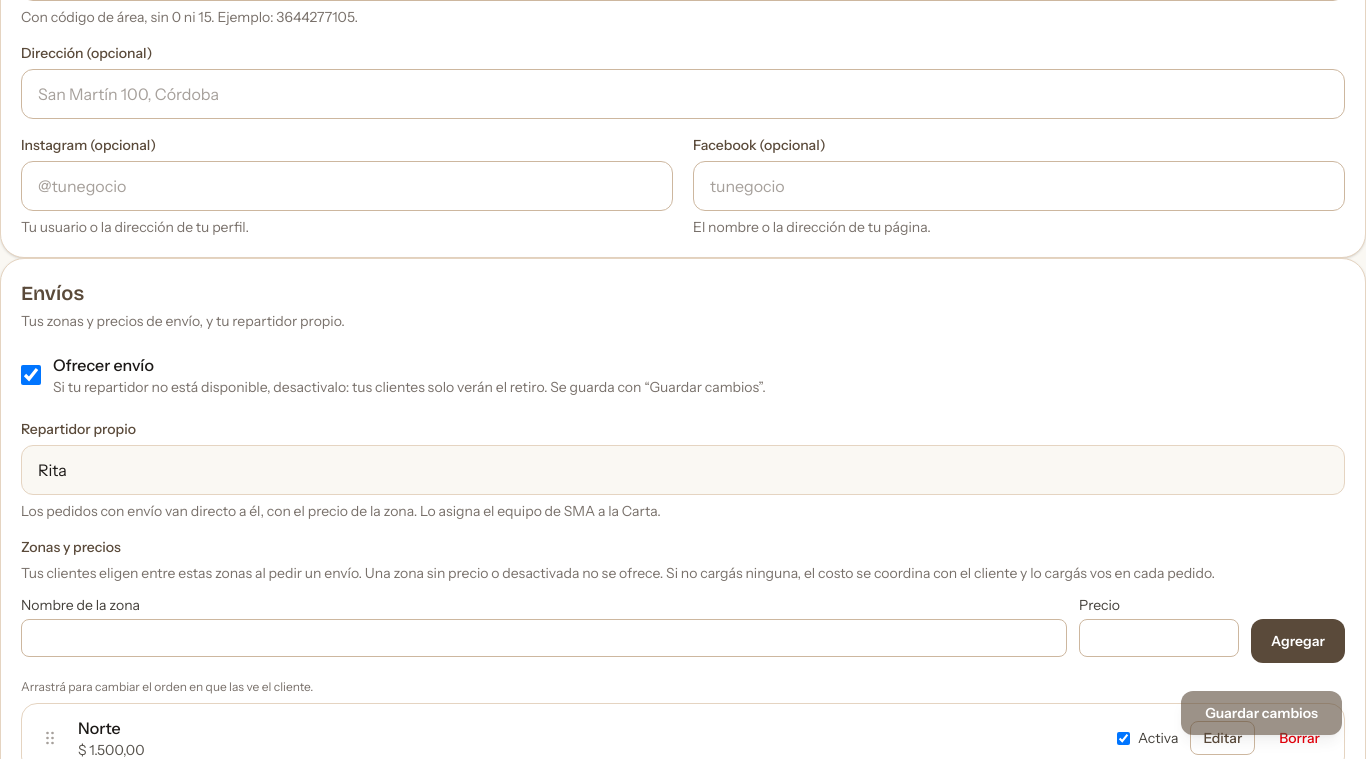
Test: el interruptor 'Ofrecer envío' es el mismo 'Delivery' de Entrega y pago — ENVIO-260 › desactivar el envío destilda 'Delivery' y deja un cambio sin guardar
(page scrolled)
Click the checkbox labelled "Ofrecer envío". click: [31, 375]
box: x1=21 y1=365 x2=41 y2=385
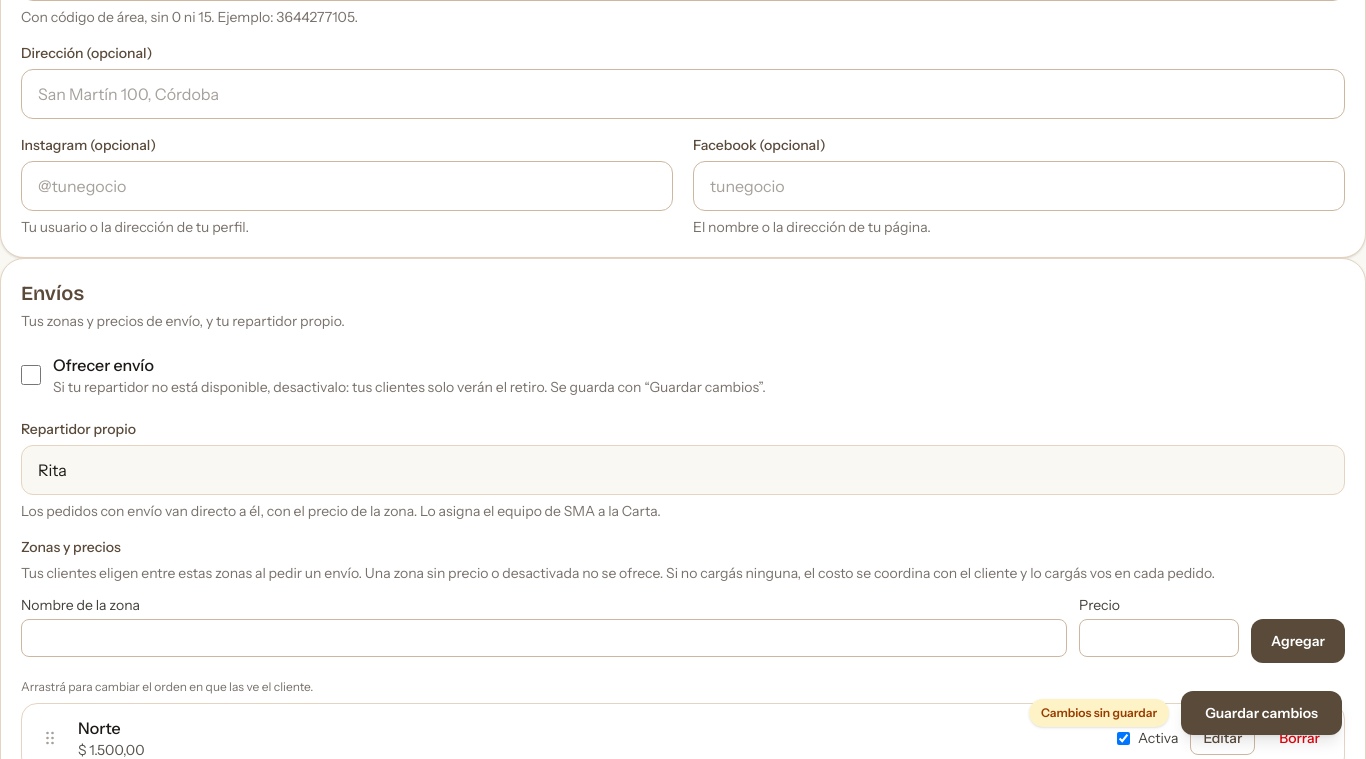
Expected: the checkbox labelled "Ofrecer envío" is not checked, x1=21 y1=365 x2=41 y2=385
Expected: the text "Cambios sin guardar" is shown, x1=1029 y1=699 x2=1169 y2=727
